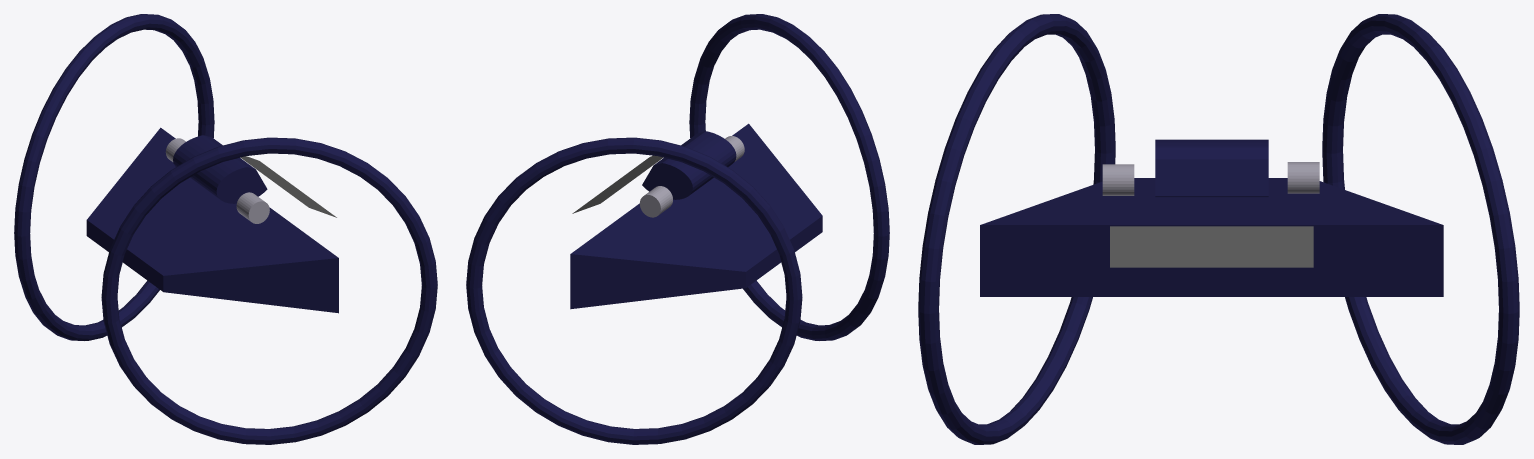
The model's file is cockpit-6.glb.
3 renders of one model, left to right at view 1: azimuth 30°, elevation 25°; view 2: azimuth 150°, elevation 25°; view 3: azimuth 270°, elevation 25°, orthographic. The views are drawn at different scales.
Parts seen in each view (by area): view 1: Cone, Torus.001, Torus, Cylinder, Plane, Cylinder.002; view 2: Cone, Torus, Torus.001, Cylinder, Plane, Cylinder.001; view 3: Cone, Torus, Torus.001, Plane, Cylinder, Cylinder.001, Cylinder.002.
Part boxes in pixels (x1,y1,x2,y2): Cone: [86, 127, 338, 313]; Torus.001: [101, 137, 437, 444]; Torus: [14, 14, 214, 340]; Cylinder: [173, 135, 267, 203]; Plane: [240, 156, 336, 217]; Cylinder.002: [236, 192, 269, 223]; Cone: [570, 123, 822, 309]; Torus: [466, 137, 802, 444]; Torus.001: [689, 14, 889, 340]; Cylinder: [642, 131, 736, 199]; Plane: [572, 155, 663, 213]; Cylinder.001: [639, 186, 672, 217]; Cone: [980, 178, 1443, 296]; Torus: [1322, 14, 1519, 444]; Torus.001: [918, 14, 1115, 444]; Plane: [1110, 226, 1313, 267]; Cylinder: [1155, 139, 1268, 197]; Cylinder.001: [1287, 162, 1319, 193]; Cylinder.002: [1102, 164, 1134, 195].
Bounding box in the file's own units: 9.56 × 10.5 × 14.38.
